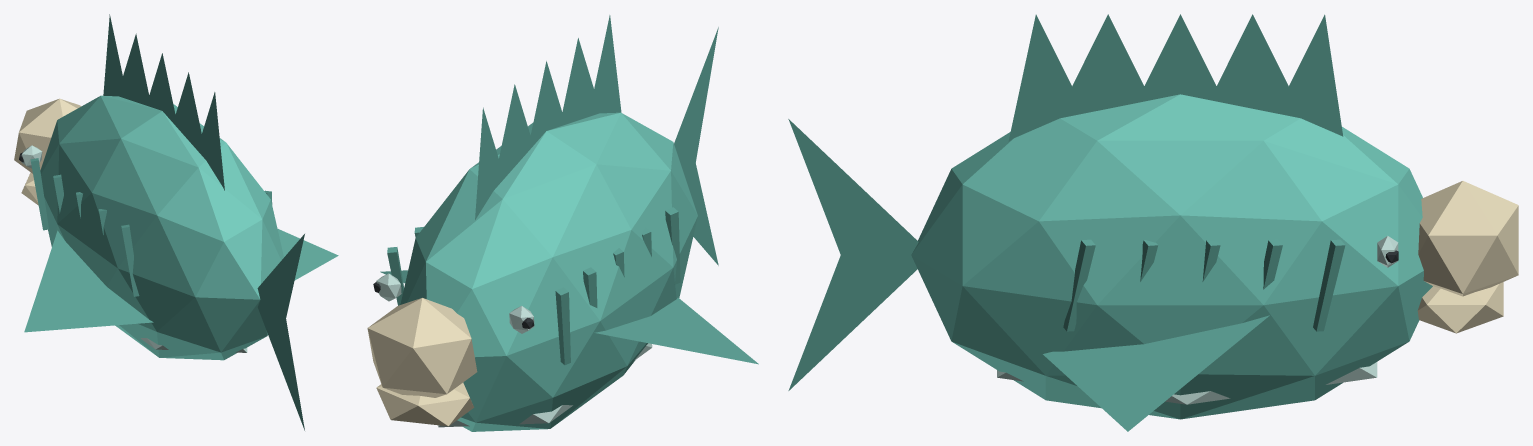
Rendered from Parrotfish.fbx.
3 views of the same model, side by side, from view 1: azimuth 30°, elevation 25°; view 2: azimuth 150°, elevation 25°; view 3: azimuth 270°, elevation 25° (orthographic). The views are drawn at different scales.
Visible parts, largest first — view 1: Body, Pectoral1, SpinedDorsal, TailFin, UpperBeak, Pectoral-1, CheekBand1_0, CheekBand1_4; view 2: Body, UpperBeak, SpinedDorsal, Pectoral1, TailFin, LowerBeak, CheekBand1_0, Belly, CheekBand1_4, Eye-1, CheekBand-1_0, CheekBand1_1 (+1 smaller); view 3: Body, SpinedDorsal, TailFin, Pectoral-1, UpperBeak, LowerBeak, CheekBand-1_0, Belly, CheekBand-1_4.
Part boxes in pixels (bbox=[...]): Body: bbox=[40, 95, 283, 360]; Pectoral1: bbox=[24, 230, 153, 332]; SpinedDorsal: bbox=[103, 14, 224, 190]; TailFin: bbox=[257, 234, 304, 430]; UpperBeak: bbox=[14, 98, 81, 173]; Pectoral-1: bbox=[277, 229, 338, 280]; CheekBand1_0: bbox=[30, 158, 48, 230]; CheekBand1_4: bbox=[121, 224, 139, 296]; Body: bbox=[400, 112, 697, 431]; UpperBeak: bbox=[367, 298, 477, 397]; SpinedDorsal: bbox=[475, 15, 621, 219]; Pectoral1: bbox=[594, 297, 758, 364]; TailFin: bbox=[674, 27, 718, 265]; LowerBeak: bbox=[376, 382, 474, 426]; CheekBand1_0: bbox=[555, 287, 570, 364]; Belly: bbox=[438, 343, 652, 427]; CheekBand1_4: bbox=[665, 207, 680, 284]; Eye-1: bbox=[376, 273, 401, 301]; CheekBand-1_0: bbox=[387, 247, 403, 305]; CheekBand1_1: bbox=[583, 267, 597, 307]; Body: bbox=[911, 94, 1432, 419]; SpinedDorsal: bbox=[1008, 14, 1343, 141]; TailFin: bbox=[788, 119, 918, 390]; Pectoral-1: bbox=[1043, 315, 1269, 431]; UpperBeak: bbox=[1418, 181, 1518, 296]; LowerBeak: bbox=[1417, 282, 1503, 333]; CheekBand-1_0: bbox=[1313, 239, 1345, 331]; Belly: bbox=[997, 362, 1377, 404]; CheekBand-1_4: bbox=[1063, 239, 1095, 331].
Bounding box in the file's own units: 0.76 × 0.675 × 1.11.
